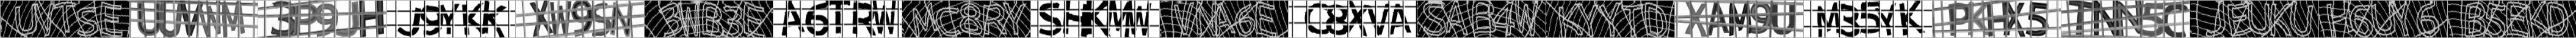3: (273, 2, 294, 38), (659, 3, 678, 38), (1840, 3, 1860, 38), (724, 5, 741, 38)
4: (1495, 3, 1513, 35)
5: (2027, 2, 2049, 36), (2486, 2, 2505, 38), (591, 3, 611, 38), (2142, 2, 2162, 36), (1860, 2, 1881, 33)
6: (805, 5, 830, 36), (2349, 5, 2372, 38), (2417, 3, 2438, 36), (1235, 5, 1255, 36)
8: (959, 2, 982, 33), (1327, 5, 1349, 35)
9: (315, 3, 337, 38), (572, 2, 591, 38), (421, 5, 444, 35), (1750, 5, 1771, 33)
a: (784, 0, 803, 35), (1447, 0, 1467, 35), (1709, 2, 1728, 35), (1390, 5, 1411, 35), (1217, 3, 1234, 33)
b: (1472, 0, 1495, 33), (2464, 3, 2486, 36), (703, 5, 723, 38)
c: (1304, 2, 1329, 33), (2164, 5, 2185, 38), (936, 7, 959, 36)
d: (1644, 5, 1667, 38)
e: (100, 2, 123, 36), (743, 3, 766, 38), (2548, 2, 2569, 38), (2226, 5, 2249, 36), (2507, 2, 2527, 38), (1257, 2, 1276, 36)
h: (360, 0, 384, 38), (1063, 0, 1088, 38), (2325, 3, 2351, 38), (1986, 2, 2009, 36)
j: (337, 0, 358, 38), (2205, 2, 2226, 36), (399, 8, 421, 36)
k: (1899, 2, 1925, 35), (483, 0, 504, 38), (1088, 0, 1109, 36), (2527, 2, 2548, 38), (1557, 7, 1582, 38), (1968, 0, 1988, 36), (2272, 3, 2290, 36), (462, 3, 481, 33)
m: (223, 0, 246, 38), (1817, 2, 1840, 36), (1109, 0, 1130, 36), (912, 5, 936, 36), (1728, 2, 1751, 35)
n: (2093, 0, 2118, 38), (2118, 2, 2141, 38), (1196, 3, 1217, 35), (613, 2, 631, 38)
p: (1948, 2, 1970, 36), (294, 3, 314, 38)
r: (853, 0, 877, 38), (982, 5, 1007, 35)
s: (1038, 3, 1063, 35), (1421, 3, 1446, 35), (76, 7, 99, 35)
t: (826, 0, 851, 33), (2070, 0, 2093, 35), (1623, 5, 1644, 38), (54, 3, 76, 33)
u: (159, 2, 182, 38), (136, 2, 159, 35), (1771, 3, 1794, 35), (2372, 5, 2395, 36), (2290, 3, 2311, 36), (15, 5, 38, 33), (2249, 5, 2270, 33)
v: (181, 0, 200, 36), (1368, 3, 1388, 36), (1175, 3, 1194, 35), (36, 5, 53, 36)
w: (199, 2, 222, 36), (678, 5, 701, 38), (874, 0, 895, 35), (1516, 0, 1538, 35), (550, 2, 570, 38), (1130, 0, 1150, 36)
x: (531, 2, 554, 36), (1686, 2, 1707, 38), (1347, 2, 1367, 38), (2008, 2, 2026, 36)
y: (1005, 2, 1025, 35), (1600, 5, 1618, 38), (442, 3, 460, 35), (1580, 5, 1597, 38), (2394, 3, 2410, 36), (1879, 7, 1894, 35)
